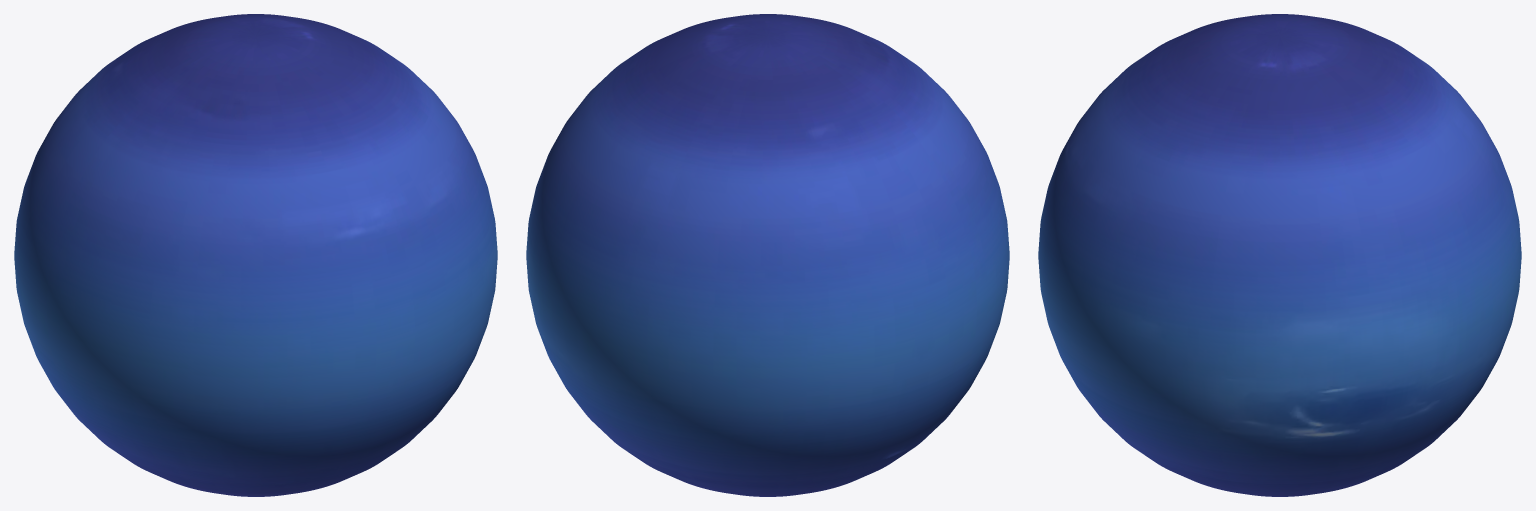
Rendered from neptune-transformed.glb.
3 renders of one model, left to right at view 1: azimuth 30°, elevation 25°; view 2: azimuth 150°, elevation 25°; view 3: azimuth 270°, elevation 25°, orthographic.
Visible parts, largest first — view 1: Sphere; view 2: Sphere; view 3: Sphere.
Boxes of the visible parts, x1=… form: Sphere: x1=14, y1=14, x2=497, y2=496; Sphere: x1=526, y1=14, x2=1009, y2=496; Sphere: x1=1038, y1=14, x2=1521, y2=496.
Size of the model in its own units: 200 by 200 by 200.
Materials: 1 (1 with a texture image).
